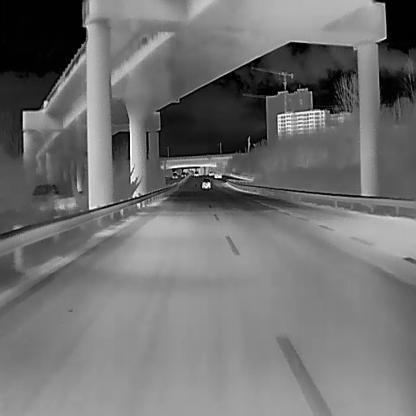car: (201, 178, 210, 188), (215, 168, 221, 177), (172, 172, 178, 178), (208, 171, 215, 176), (180, 172, 185, 177), (194, 170, 199, 175)
